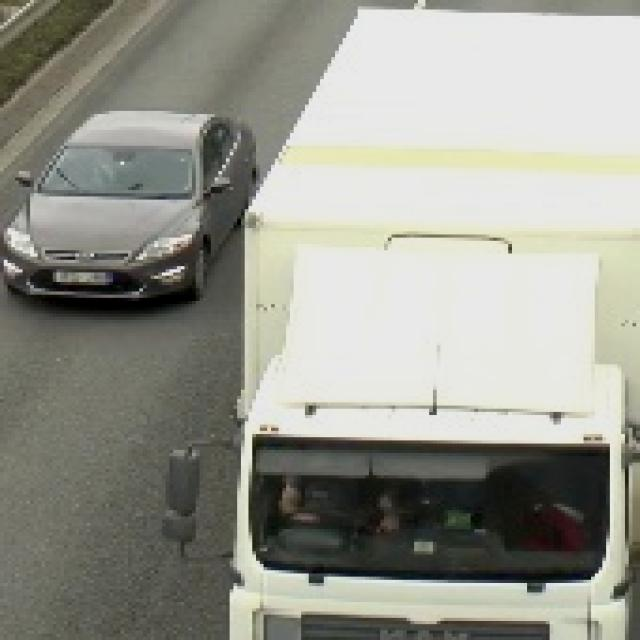truck: (174, 1, 637, 635)
